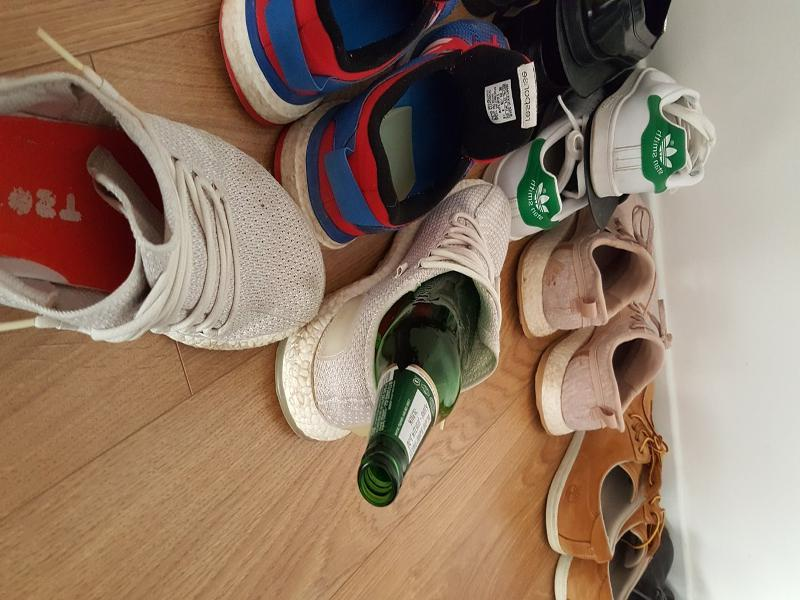Beer: (357, 270, 484, 506)
